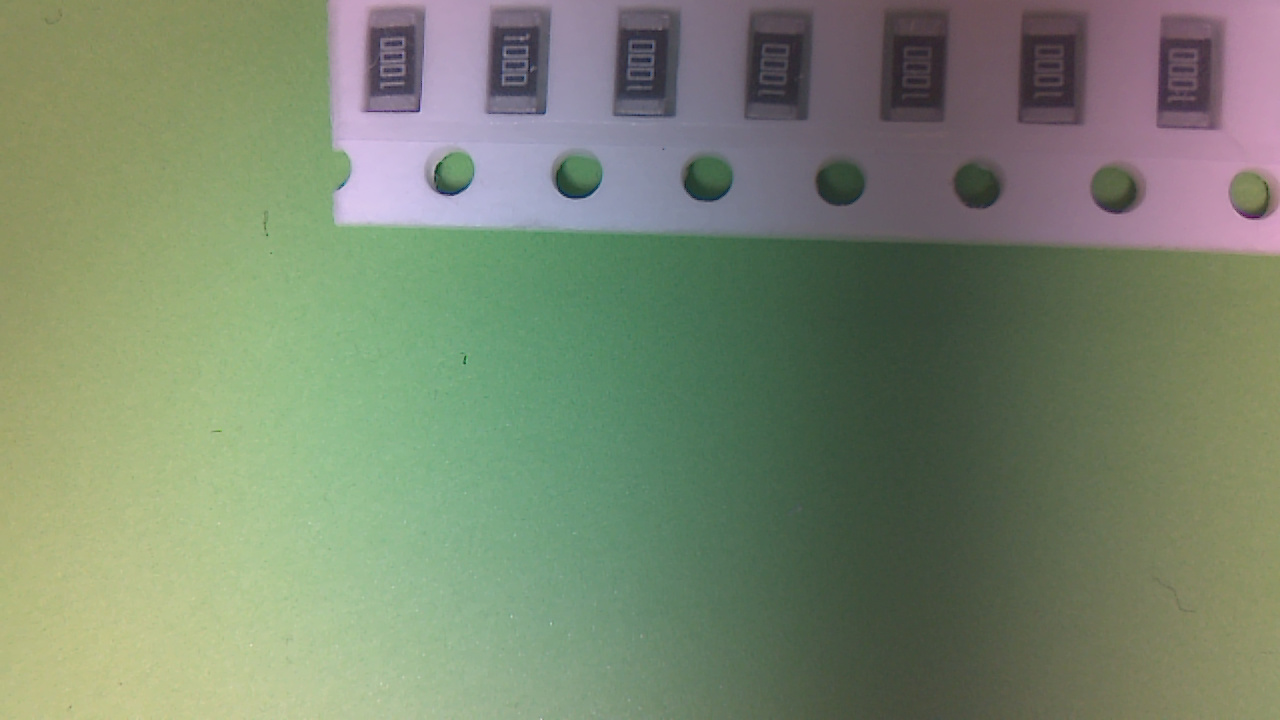Resistor: (1163, 21, 1222, 138), (887, 20, 950, 129), (1025, 25, 1086, 132), (749, 20, 811, 124), (619, 18, 680, 123), (491, 16, 550, 121), (372, 14, 424, 119)
